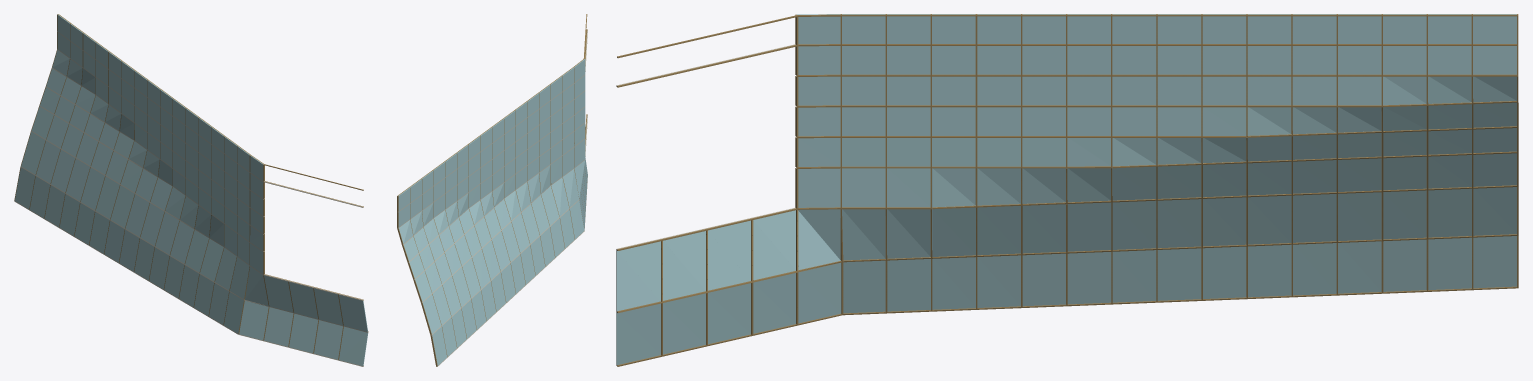
Rendered from G7_Completion_R003_Body_-1_07.glb.
The picture shows the model from 3 angles, left to right: view 1: azimuth 30°, elevation 25°; view 2: azimuth 150°, elevation 25°; view 3: azimuth 270°, elevation 25°; orthographic projection. The views are drawn at different scales.
Parts seen in each view (by area): view 1: Body_-1_07_G7C3_glass_solid_skin, Body_-1_07_G7C3_metal_solid_skin, Body_-1_07_G7C3_shell_solid_skin, Body_-1_07_G7C3_metal_solid_frame; view 2: Body_-1_07_G7C3_glass_solid_skin, Body_-1_07_G7C3_metal_solid_skin, Body_-1_07_G7C3_shell_solid_skin, Body_-1_07_G7C3_metal_solid_frame; view 3: Body_-1_07_G7C3_glass_solid_skin, Body_-1_07_G7C3_metal_solid_frame.
Boxes of the visible parts, x1,y1,x2,y2 form: Body_-1_07_G7C3_glass_solid_skin: (15, 14, 368, 365); Body_-1_07_G7C3_metal_solid_skin: (14, 14, 343, 359); Body_-1_07_G7C3_shell_solid_skin: (14, 31, 368, 366); Body_-1_07_G7C3_metal_solid_frame: (58, 14, 368, 366); Body_-1_07_G7C3_glass_solid_skin: (398, 59, 587, 365); Body_-1_07_G7C3_metal_solid_skin: (397, 67, 586, 366); Body_-1_07_G7C3_shell_solid_skin: (397, 29, 587, 366); Body_-1_07_G7C3_metal_solid_frame: (397, 14, 587, 366); Body_-1_07_G7C3_glass_solid_skin: (616, 14, 1516, 364); Body_-1_07_G7C3_metal_solid_frame: (617, 14, 1518, 366).
Size of the model in its own units: 26.47 by 45.5 by 120.
Materials: 3 (2 with a texture image).
